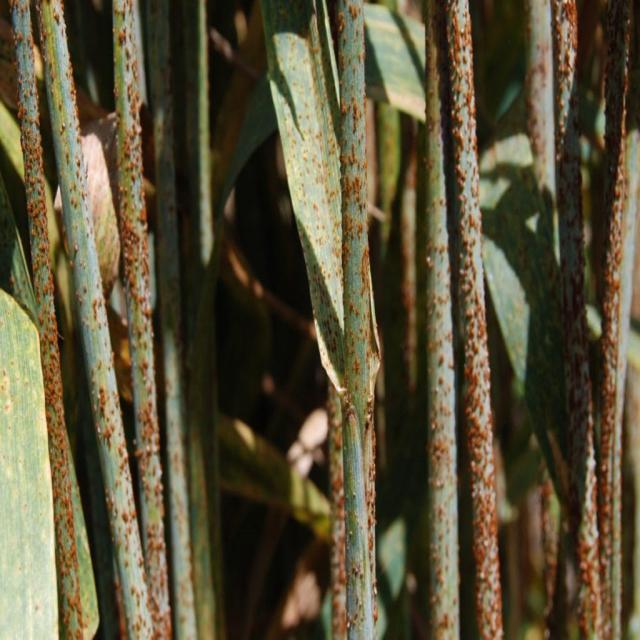wheat-stemrust: (31, 0, 173, 640), (260, 0, 381, 640), (11, 0, 99, 640), (452, 0, 505, 640), (549, 0, 600, 640), (595, 0, 634, 640), (424, 0, 461, 640), (328, 388, 347, 640)
